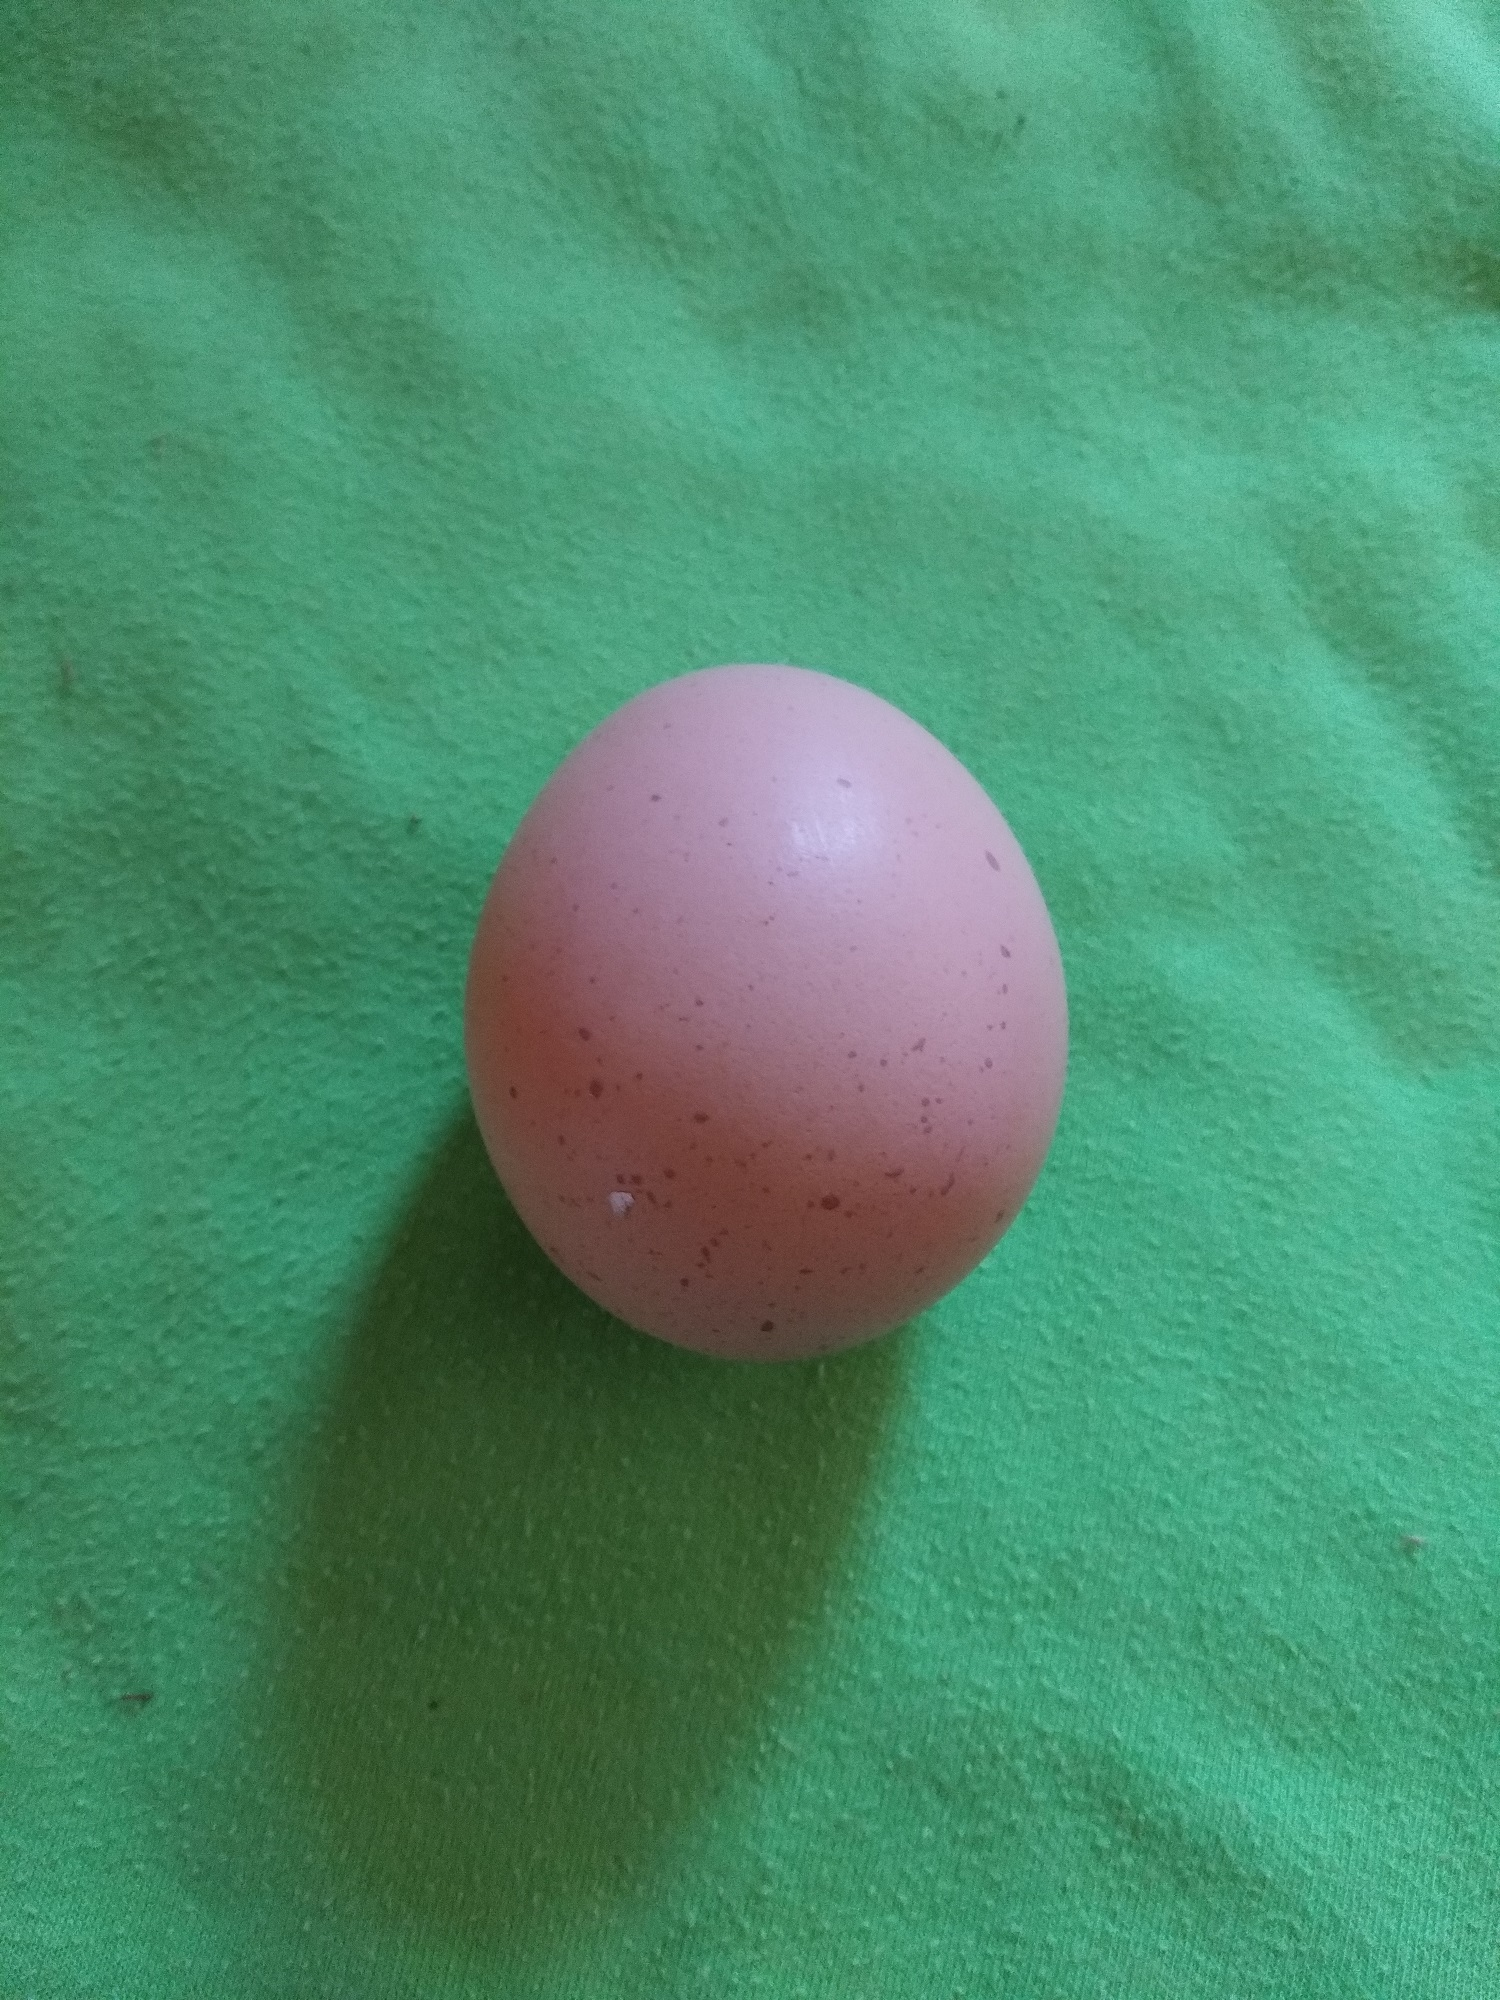Female: (452, 657, 1075, 1365)
